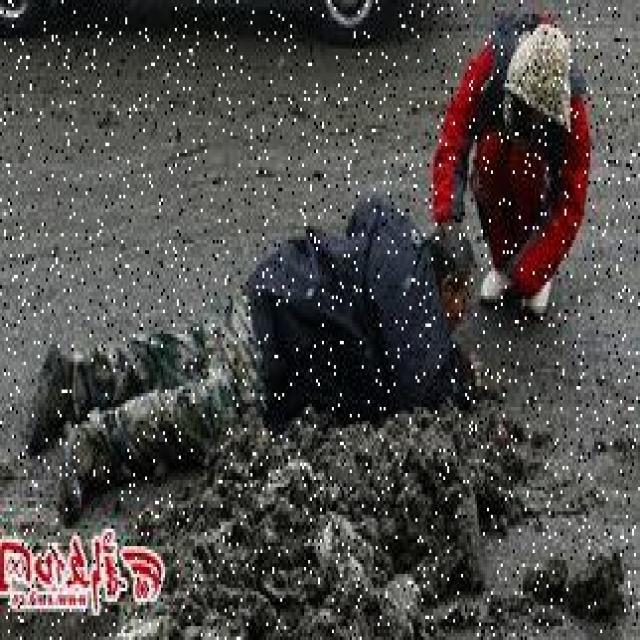fall: (48, 209, 473, 490)
